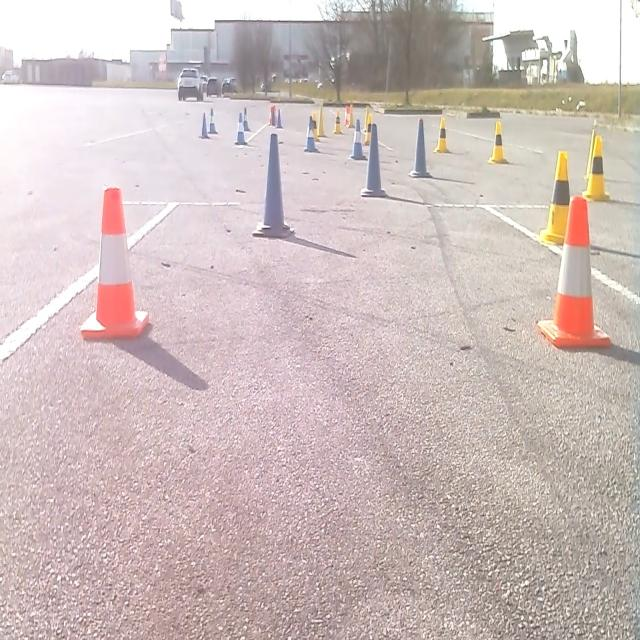blue_cone: (252, 130, 292, 239), (360, 121, 387, 198), (408, 115, 431, 179), (348, 120, 368, 164), (304, 116, 321, 155), (234, 113, 248, 146), (199, 113, 210, 140), (208, 109, 218, 134), (240, 108, 250, 132), (276, 110, 283, 129)
orange_cone: (536, 193, 612, 351), (80, 183, 150, 341), (268, 105, 277, 127), (342, 107, 350, 128)
yellow_cone: (539, 148, 571, 246), (582, 133, 610, 201), (487, 118, 508, 164), (434, 114, 451, 154), (363, 115, 374, 146), (332, 110, 343, 135), (311, 113, 320, 143), (318, 107, 326, 138), (362, 109, 370, 132), (349, 106, 355, 129)
